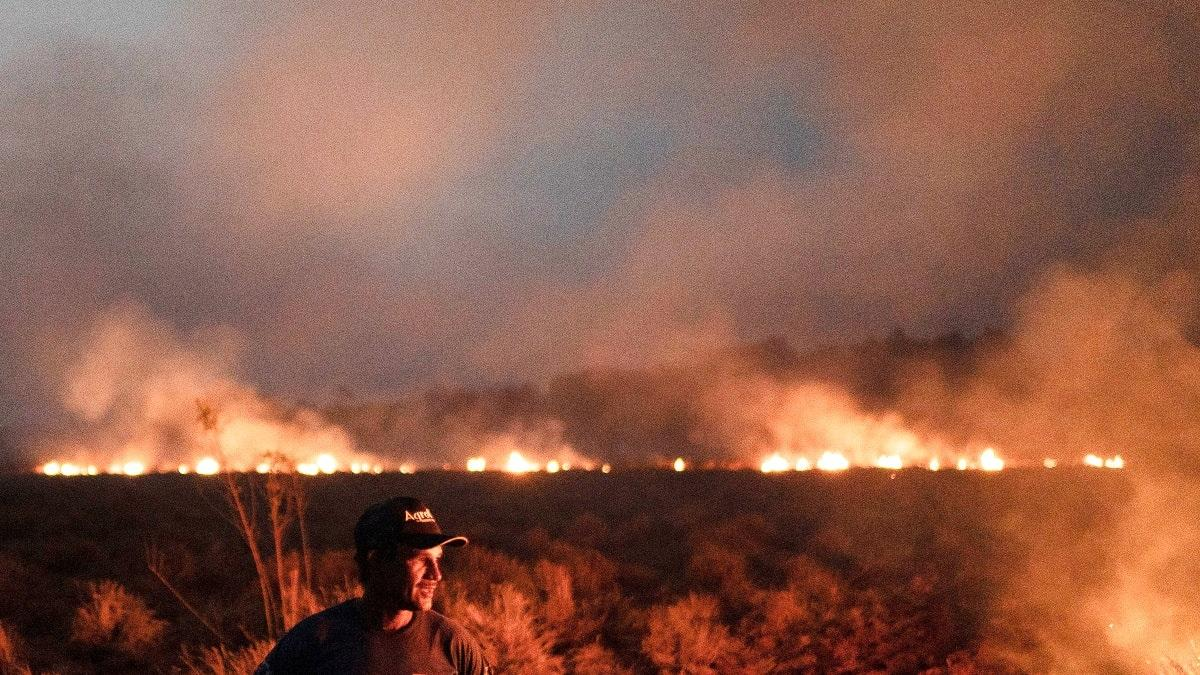fire: (750, 433, 1001, 478), (471, 447, 576, 478), (268, 450, 384, 478), (29, 458, 144, 484), (1077, 449, 1129, 469), (177, 458, 222, 478), (666, 455, 690, 473)
